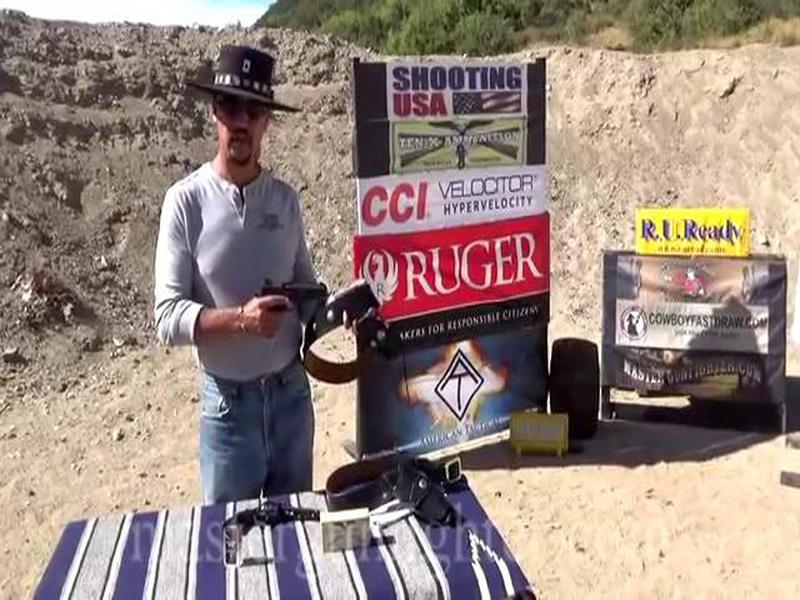Pistola: (239, 272, 337, 343)
